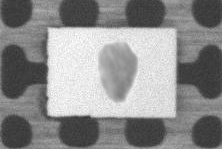DIE_INK: (98, 40, 139, 104)
